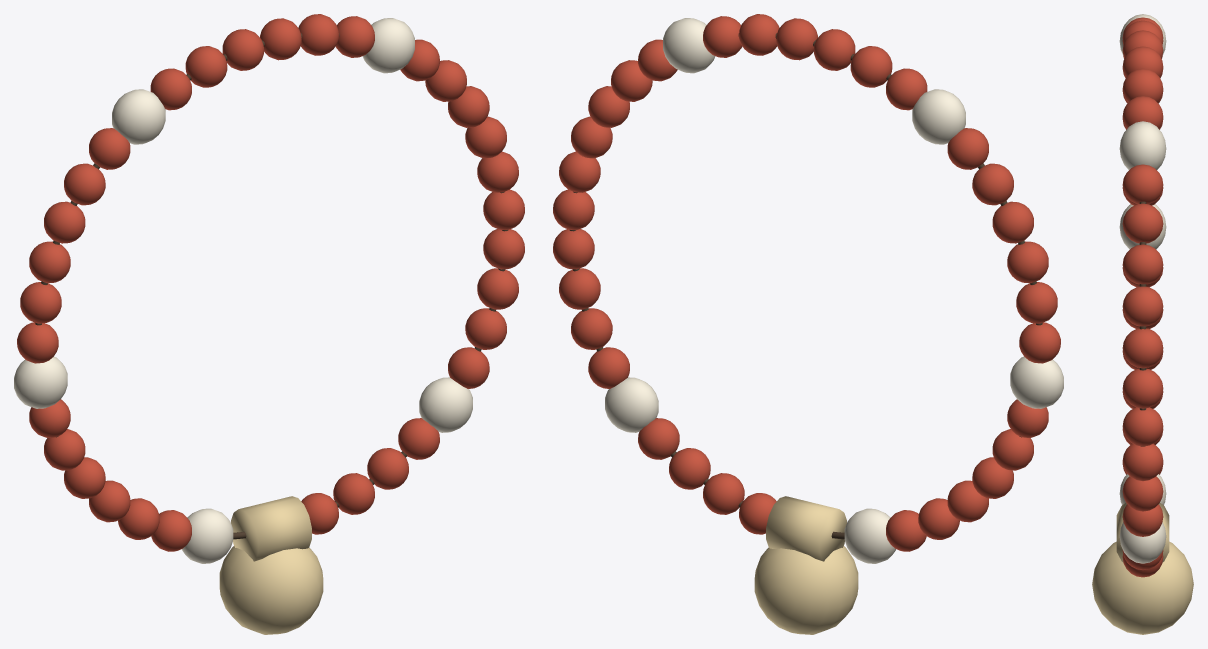
The model's file is beaded-anklet.glb.
The picture shows the model from 3 angles, left to right: view 1: azimuth 30°, elevation 25°; view 2: azimuth 150°, elevation 25°; view 3: azimuth 270°, elevation 25°; orthographic projection. The views are drawn at different scales.
Visible parts, largest first — view 1: CharmBody, Clasp, Accent_013, Accent_034, Accent_020, Accent_027, Accent_006, Bead_017, Bead_015, Bead_016, Bead_011, Bead_036 (+27 smaller); view 2: CharmBody, Clasp, Accent_013, Accent_034, Accent_020, Accent_027, Accent_006, Bead_017, Bead_015, Bead_016, Bead_011, Bead_036 (+27 smaller); view 3: CharmBody, Accent_006, Bead_002, Bead_000, Bead_003, Bead_001, Bead_004, Bead_005, Bead_038, Accent_034, Bead_037, Bead_036 (+12 smaller).
Part boxes in pixels (<box>): CharmBody: <box>219,546,323,634</box>; Clasp: <box>231,496,311,561</box>; Accent_013: <box>112,89,165,144</box>; Accent_034: <box>419,377,472,432</box>; Accent_020: <box>14,356,67,408</box>; Accent_027: <box>182,508,233,563</box>; Accent_006: <box>362,18,414,73</box>; Bead_017: <box>29,241,70,283</box>; Bead_015: <box>64,163,105,205</box>; Bead_016: <box>44,201,85,243</box>; Bead_011: <box>185,46,227,87</box>; Bead_036: <box>465,308,506,349</box>; CharmBody: <box>754,546,858,634</box>; Clasp: <box>766,496,846,561</box>; Accent_013: <box>912,89,965,144</box>; Accent_034: <box>605,377,658,432</box>; Accent_020: <box>1010,356,1063,408</box>; Accent_027: <box>844,508,895,563</box>; Accent_006: <box>663,18,715,73</box>; Bead_017: <box>1007,241,1048,283</box>; Bead_015: <box>972,163,1013,205</box>; Bead_016: <box>992,201,1033,243</box>; Bead_011: <box>850,46,892,87</box>; Bead_036: <box>571,308,612,349</box>; CharmBody: <box>1092,541,1193,634</box>; Accent_006: <box>1119,121,1166,169</box>; Bead_002: <box>1122,286,1163,326</box>; Bead_000: <box>1122,368,1163,408</box>; Bead_003: <box>1122,244,1163,284</box>; Bead_001: <box>1122,328,1163,368</box>; Bead_004: <box>1122,203,1163,243</box>; Bead_005: <box>1122,164,1163,204</box>; Bead_038: <box>1122,407,1163,446</box>; Accent_034: <box>1119,522,1166,563</box>; Bead_037: <box>1122,443,1163,481</box>; Bead_036: <box>1122,476,1163,511</box>.
Bounding box in the file's own units: 0.0996 × 0.1145 × 0.018.
